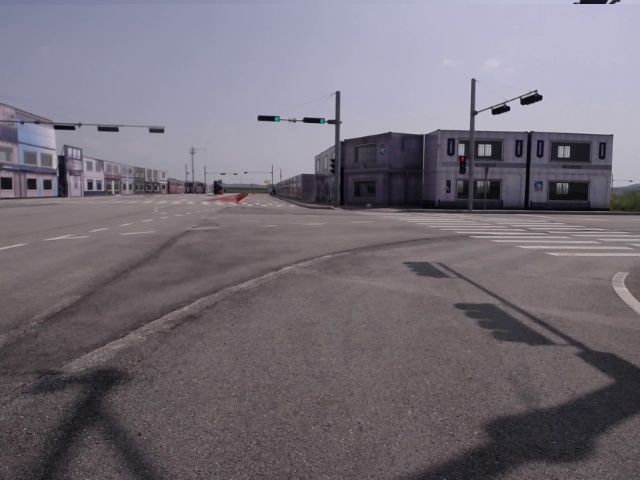straight_green_4: (257, 114, 280, 122), (304, 117, 324, 125)
